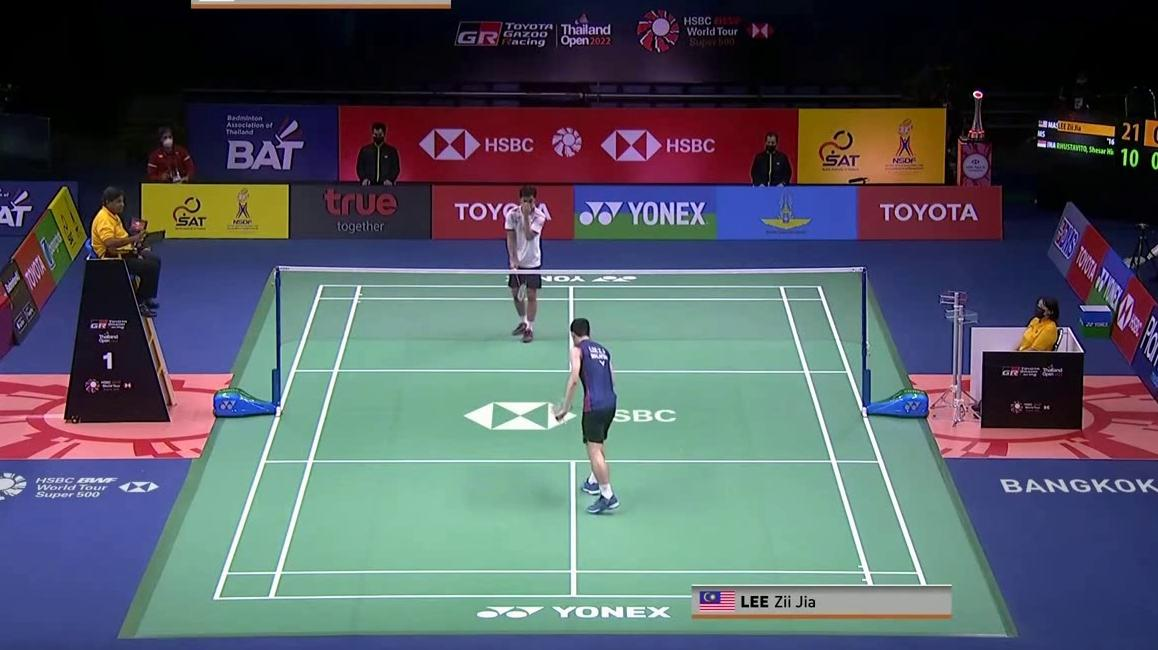racket: (509, 262, 526, 301)
shuttle: (556, 413, 569, 425)
